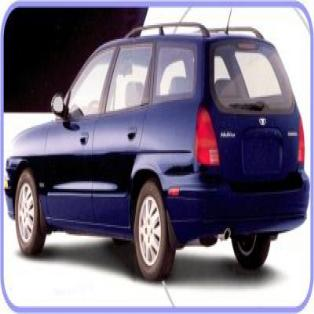Auto: (3, 8, 311, 287)
